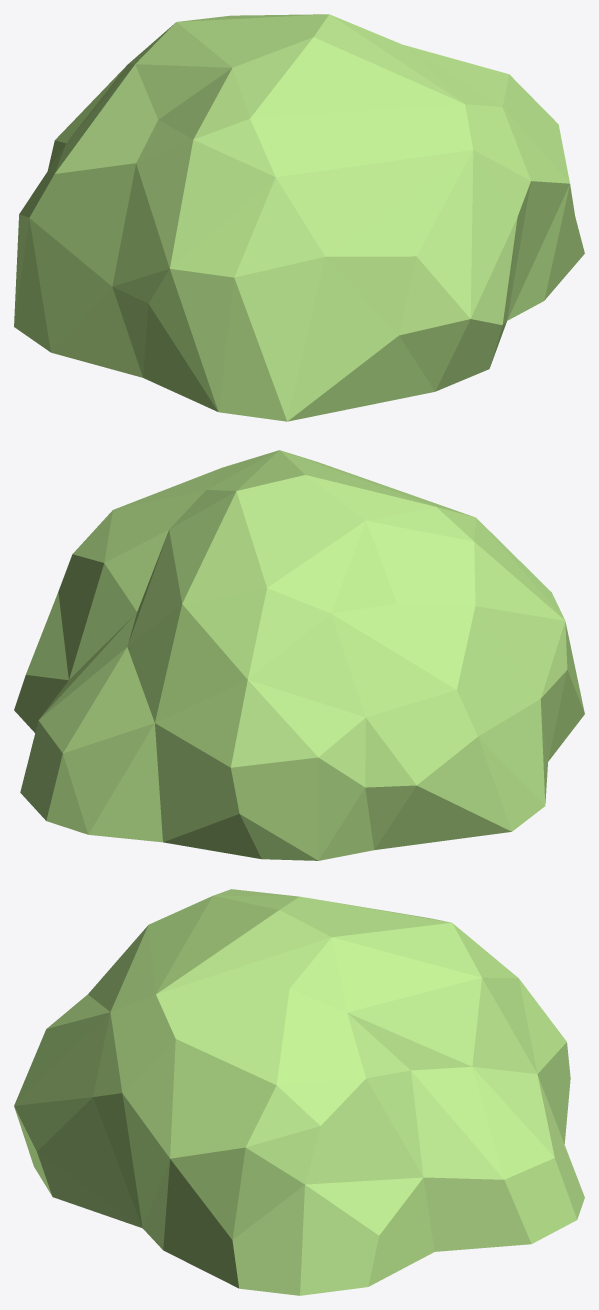
File: Bush_b_l_04.fbx
The picture shows the model from 3 angles, top to bottom: view 1: azimuth 30°, elevation 25°; view 2: azimuth 150°, elevation 25°; view 3: azimuth 270°, elevation 25°; orthographic projection.
Parts seen in each view (by area): view 1: Bush_b_l_04; view 2: Bush_b_l_04; view 3: Bush_b_l_04.
Boxes of the visible parts, x1,y1,x2,y2 form: Bush_b_l_04: [14, 14, 584, 421]; Bush_b_l_04: [14, 450, 584, 860]; Bush_b_l_04: [14, 889, 584, 1295].
Bounding box in the file's own units: 327 × 159 × 316.
